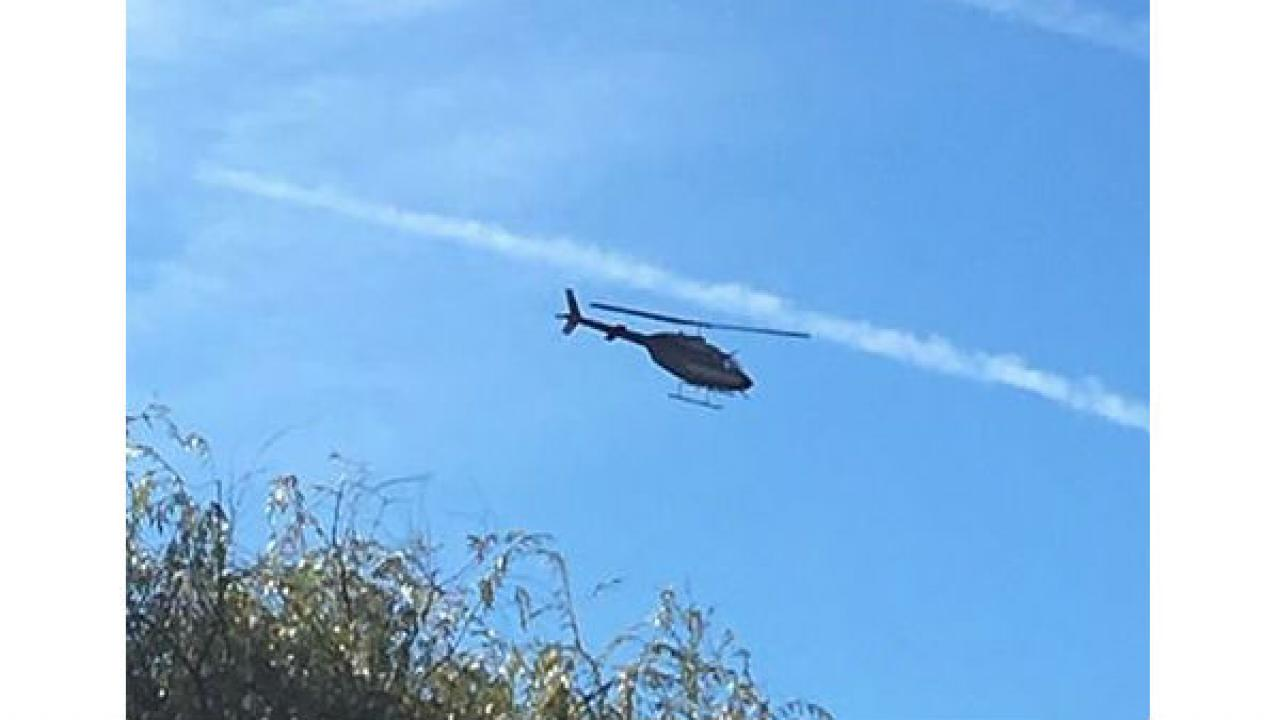Helicopter: (546, 281, 818, 421)
